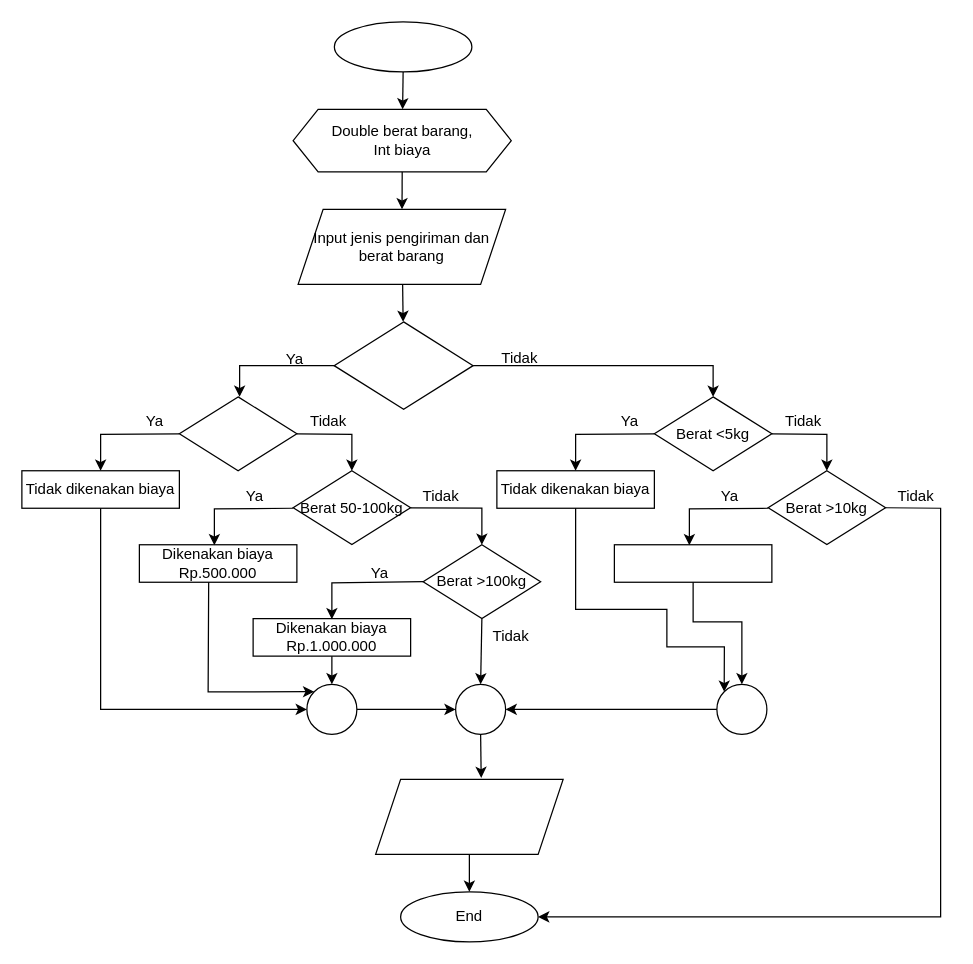
The diagram is 973 pixels wide and 964 high, and some of its shapes have lost their labels. The centre of each missing label's shape, as x and y in pixels:
Berat <10kg: the point at 237,433
Dikenakan biaya Rp.800.000: the point at 692,563
Output biaya: the point at 468,816
Pengiriman ke dalam negeri: the point at 403,365
Start: the point at 402,46
